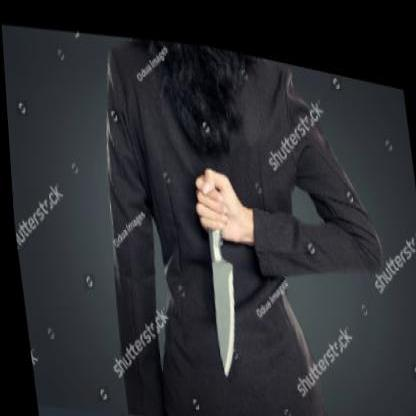knife: (186, 149, 244, 372)
